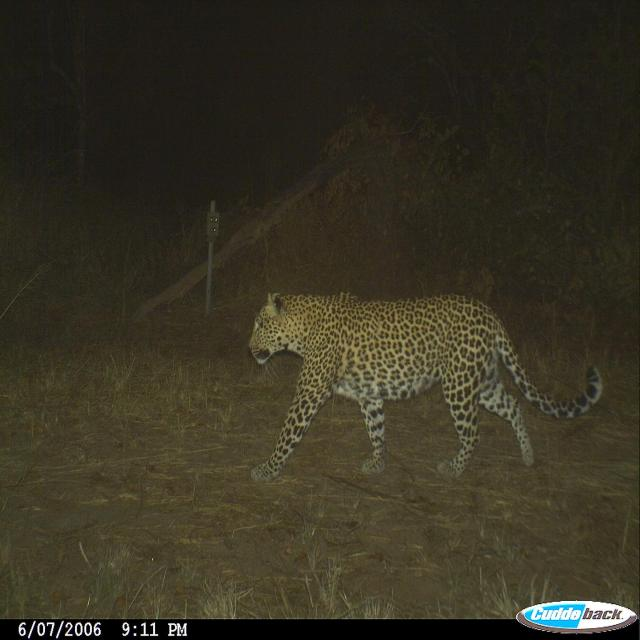Leopard: (242, 281, 600, 486)
